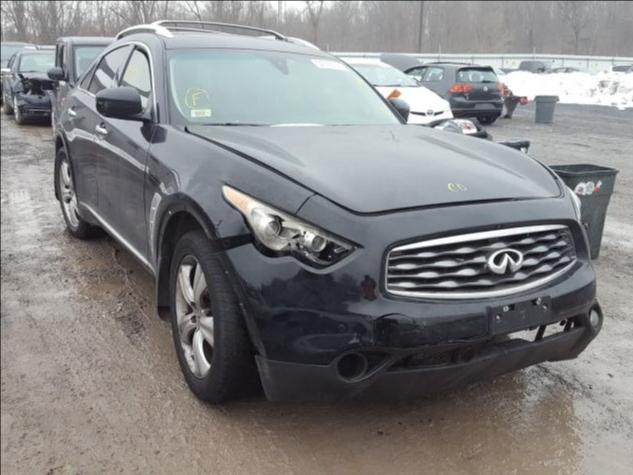Broken part: (207, 177, 604, 401)
Dent: (246, 270, 360, 314), (271, 311, 340, 334), (370, 317, 395, 346)
Missing part: (338, 353, 365, 379)
Paint chip: (359, 274, 377, 302)
